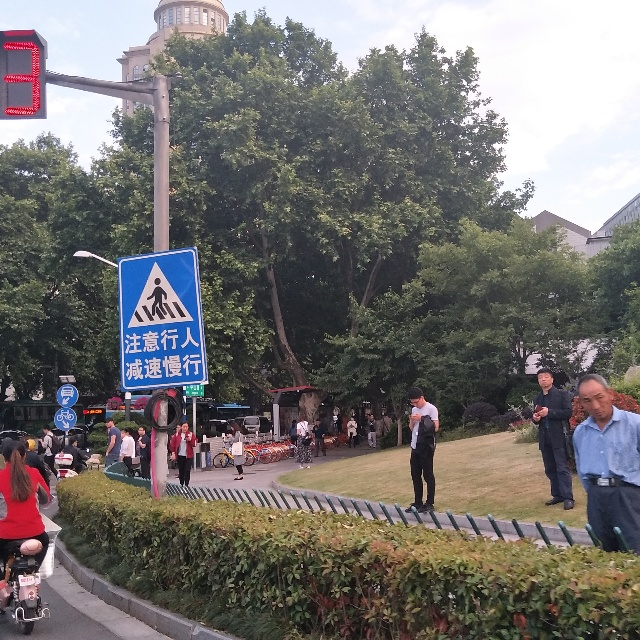crosswalk: (117, 252, 209, 389)
